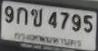letters: (31, 8, 43, 27), (17, 7, 28, 25), (4, 5, 14, 23), (83, 15, 93, 33), (60, 12, 69, 30), (48, 11, 57, 28), (72, 14, 81, 31)
province: (14, 33, 82, 47)
